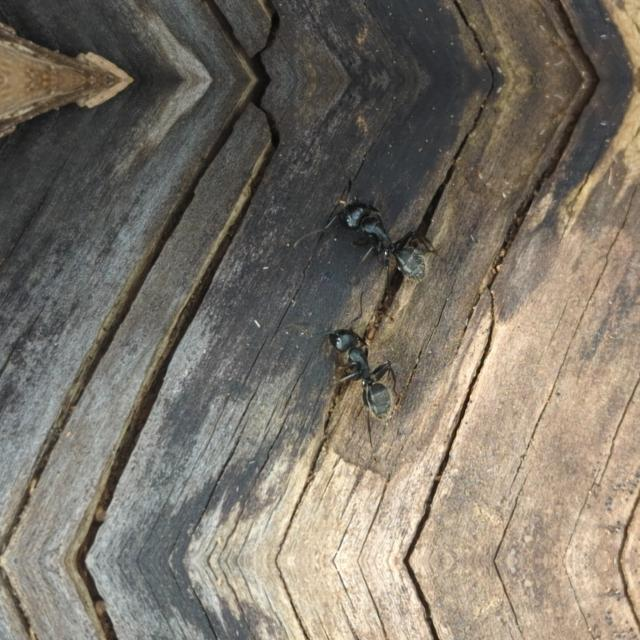Camponotus: (318, 186, 449, 292), (310, 312, 422, 428)
